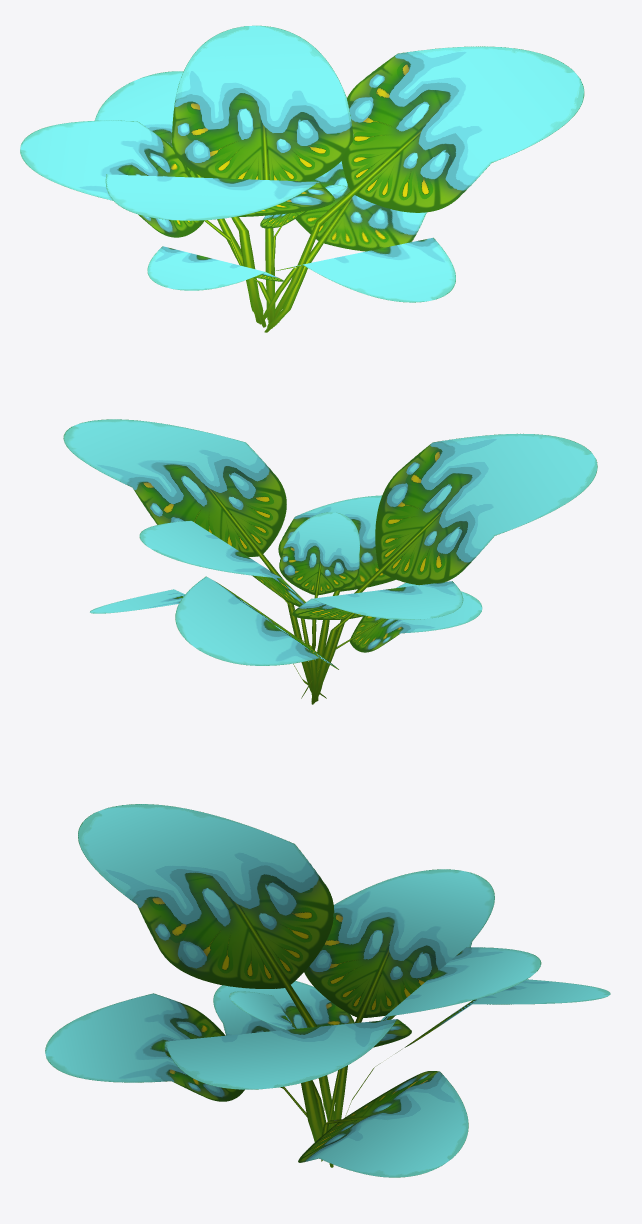
File: Grass1.FBX
3 views of the same model, one above another, from view 1: azimuth 30°, elevation 25°; view 2: azimuth 150°, elevation 25°; view 3: azimuth 270°, elevation 25° (orthographic). The views are drawn at different scales.
Parts seen in each view (by area): view 1: Line1552; view 2: Line1552; view 3: Line1552.
Boxes of the visible parts, x1,y1,x2,y2 form: Line1552: (20, 25, 584, 332); Line1552: (63, 419, 597, 704); Line1552: (45, 804, 610, 1177).
Size of the model in its own units: 63.08 by 25.63 by 55.65.
Materials: 1 (1 with a texture image).
